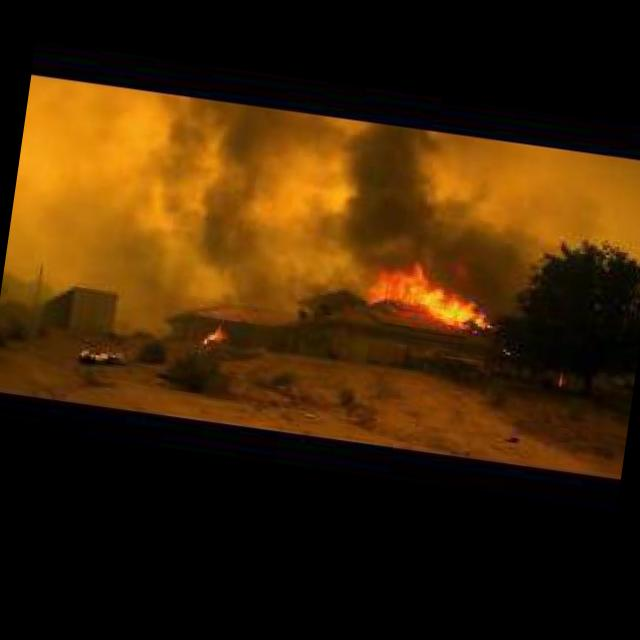fire: (362, 254, 504, 336), (199, 322, 226, 346)
smoke: (128, 90, 340, 325), (324, 117, 546, 280)
